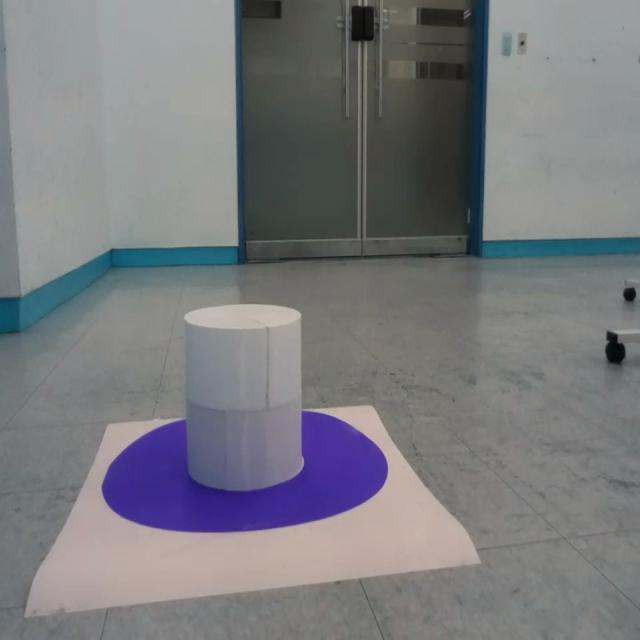cylinder: (183, 303, 303, 491)
